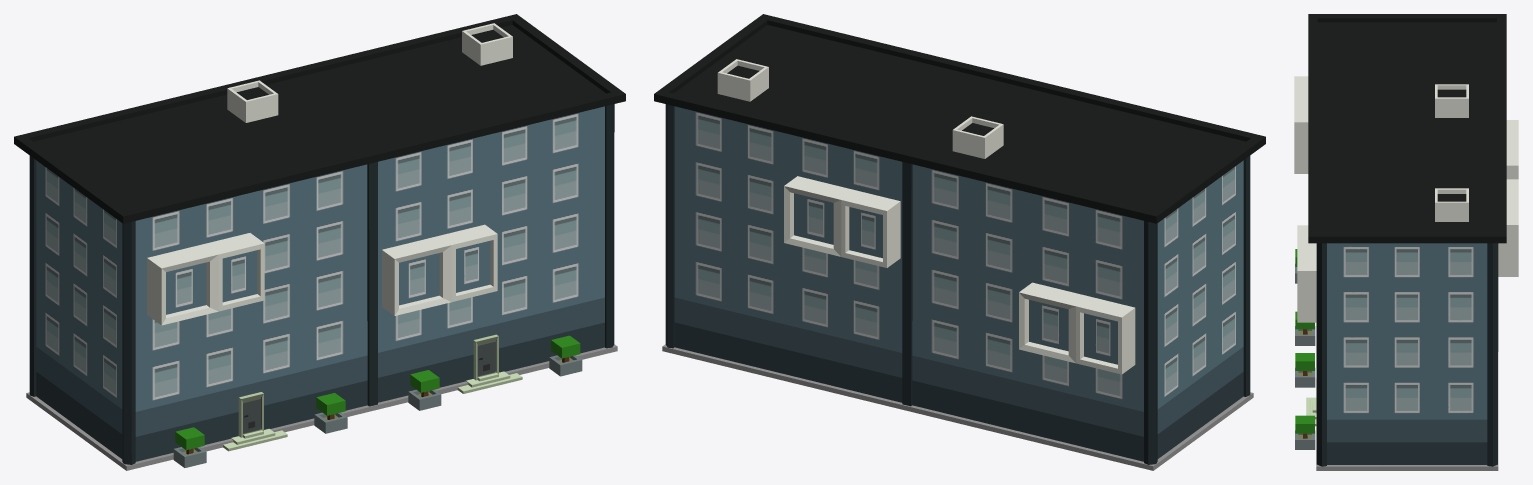
Rendered from Pair House Low.fbx.
3 renders of one model, left to right at view 1: azimuth 30°, elevation 25°; view 2: azimuth 150°, elevation 25°; view 3: azimuth 270°, elevation 25°, orthographic. The views are drawn at different scales.
Parts seen in each view (by area): view 1: Pair House Low; view 2: Pair House Low; view 3: Pair House Low.
Boxes of the visible parts, x1,y1,x2,y2 form: Pair House Low: (14, 14, 625, 470); Pair House Low: (654, 14, 1265, 470); Pair House Low: (1294, 14, 1518, 470).
Size of the model in its own units: 10.71 by 5.62 by 4.56.
